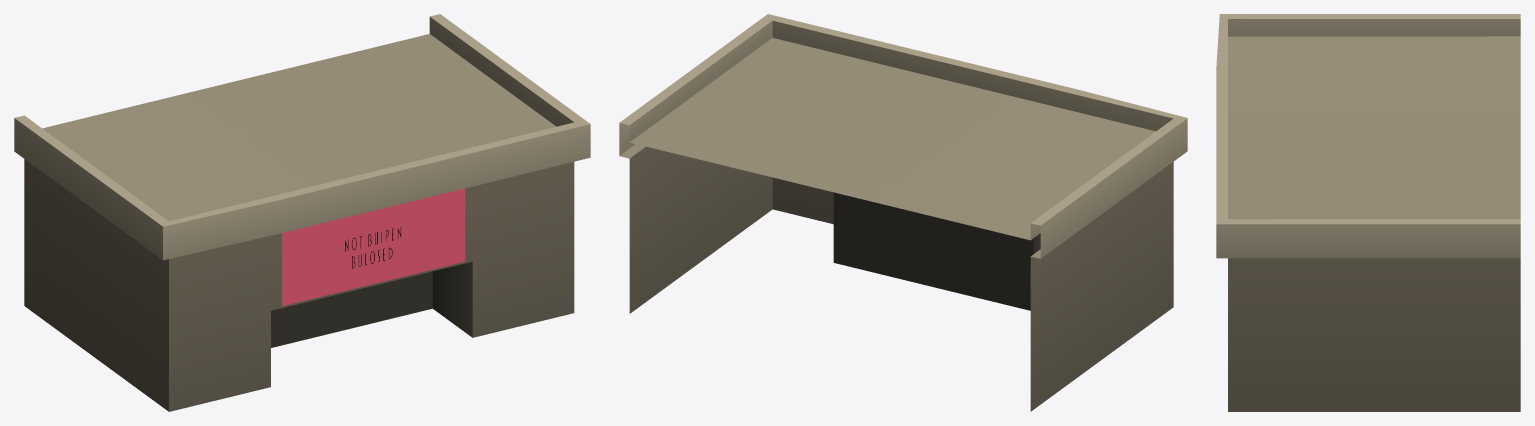
The model's file is Wall building.fbx.
The picture shows the model from 3 angles, left to right: view 1: azimuth 30°, elevation 25°; view 2: azimuth 150°, elevation 25°; view 3: azimuth 270°, elevation 25°; orthographic projection. The views are drawn at different scales.
Visible parts, largest first — view 1: Wall building; view 2: Wall building; view 3: Wall building.
Part boxes in pixels (x1=…): Wall building: x1=14, y1=14, x2=590, y2=411; Wall building: x1=619, y1=14, x2=1187, y2=411; Wall building: x1=1216, y1=14, x2=1520, y2=411.
Size of the model in its own units: 13.78 by 5.9 by 8.43.
1 material, 1 textured.
